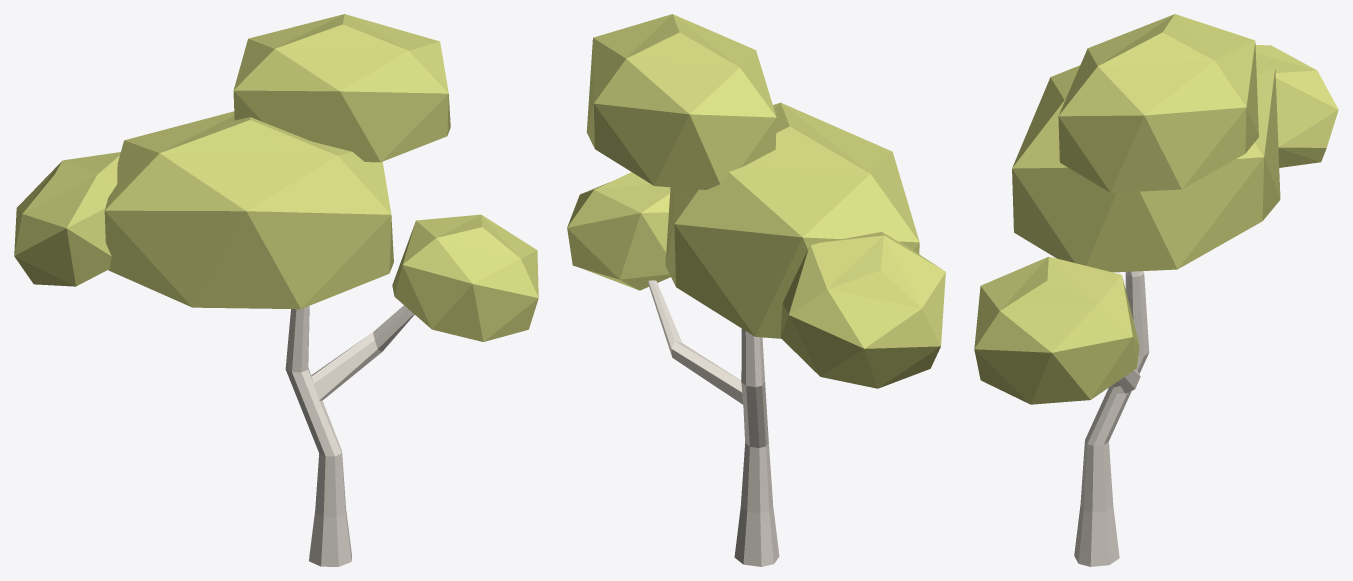
Rendered from Tree_green.FBX.
3 renders of one model, left to right at view 1: azimuth 30°, elevation 25°; view 2: azimuth 150°, elevation 25°; view 3: azimuth 270°, elevation 25°, orthographic. The views are drawn at different scales.
Parts seen in each view (by area): view 1: green; view 2: green; view 3: green.
Boxes of the visible parts, left/top/right/bottom form: green: left=14, top=14, right=538, bottom=566; green: left=567, top=14, right=945, bottom=566; green: left=974, top=14, right=1338, bottom=566.
Size of the model in its own units: 232 by 259 by 156.
